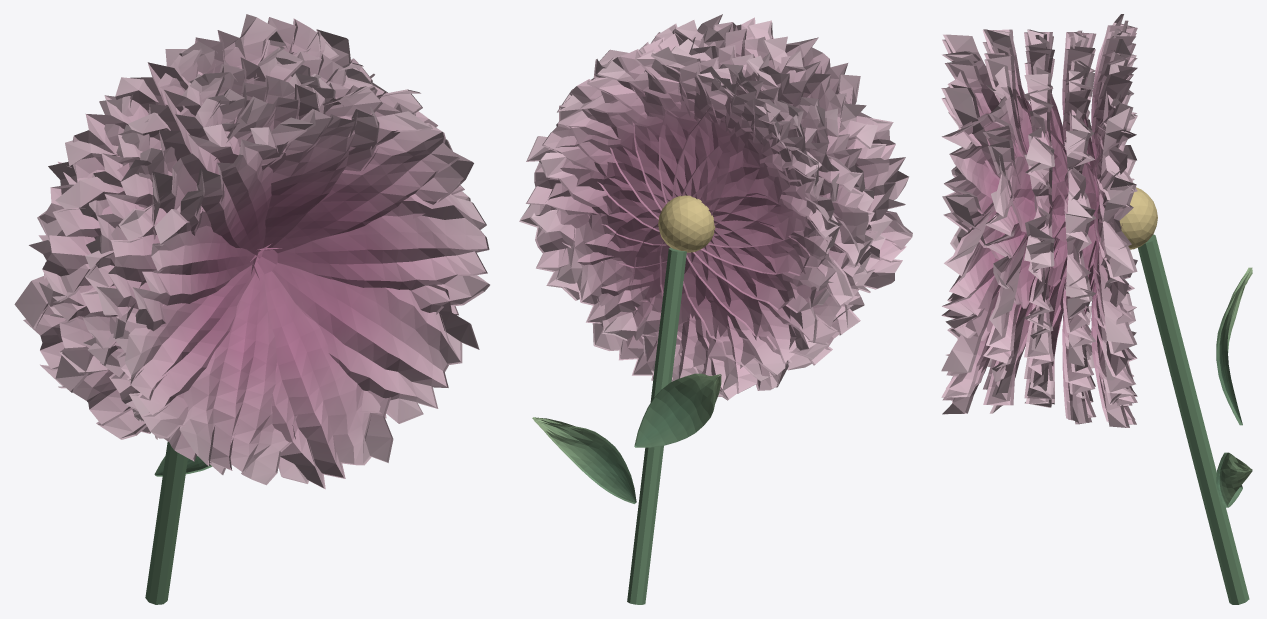
File: peonia.glb
The picture shows the model from 3 angles, left to right: view 1: azimuth 30°, elevation 25°; view 2: azimuth 150°, elevation 25°; view 3: azimuth 270°, elevation 25°; orthographic projection. The views are drawn at different scales.
Visible parts, largest first — view 1: PETALO_060, PETALO_052, PETALO_059, PETALO_058, PETALO_053, PETALO_057, PETALO_054, PETALO_056, PETALO_055, PETALO_022, PETALO_046, PETALO_045 (+22 smaller); view 2: PETALO_014, PETALO_001, STELO_PRINCIPALE, PETALO_008, PETALO_002, PETALO_009, PETALO_000, PETALO_010, PETALO_007, PETALO_006, PETALO_004, PETALO_005 (+27 smaller); view 3: STELO_PRINCIPALE, PETALO_053, PETALO_052, PETALO_042, PETALO_015, PETALO_031, PETALO_003, PETALO_051, PETALO_043, PETALO_054, PETALO_060, PETALO_000 (+30 smaller).
Boxes of the visible parts, x1,y1,x2,y2 form: PETALO_060: (272,262,479,423); PETALO_052: (277,194,489,314); PETALO_059: (263,271,393,489); PETALO_058: (179,272,297,485); PETALO_053: (272,111,473,253); PETALO_057: (124,258,259,438); PETALO_054: (257,106,379,249); PETALO_056: (132,205,259,331); PETALO_055: (180,127,285,261); PETALO_022: (39,163,129,316); PETALO_046: (96,195,166,330); PETALO_045: (152,122,246,239); PETALO_014: (556,190,708,340); PETALO_001: (539,89,697,245); STELO_PRINCIPALE: (627,247,686,604); PETALO_008: (691,167,839,313); PETALO_002: (559,57,707,231); PETALO_009: (686,196,854,359); PETALO_000: (526,132,687,268); PETALO_010: (683,210,818,381); PETALO_007: (681,132,840,275); PETALO_006: (672,96,818,247); PETALO_004: (632,59,763,225); PETALO_005: (658,66,791,236); STELO_PRINCIPALE: (1138,234,1249,604); PETALO_053: (942,113,1005,259); PETALO_052: (942,202,1000,340); PETALO_042: (984,156,1034,308); PETALO_015: (1093,236,1136,404); PETALO_031: (1025,127,1067,286); PETALO_003: (1091,39,1137,211); PETALO_051: (983,233,1032,381); PETALO_043: (982,84,1035,233); PETALO_054: (941,51,1000,180); PETALO_060: (941,276,1000,397); PETALO_000: (1093,188,1137,353).
Bounding box in the file's own units: 1.82 × 2.72 × 1.34.
